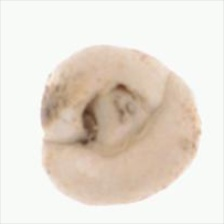L3: (76, 84, 158, 153)
L4: (39, 44, 202, 204)
